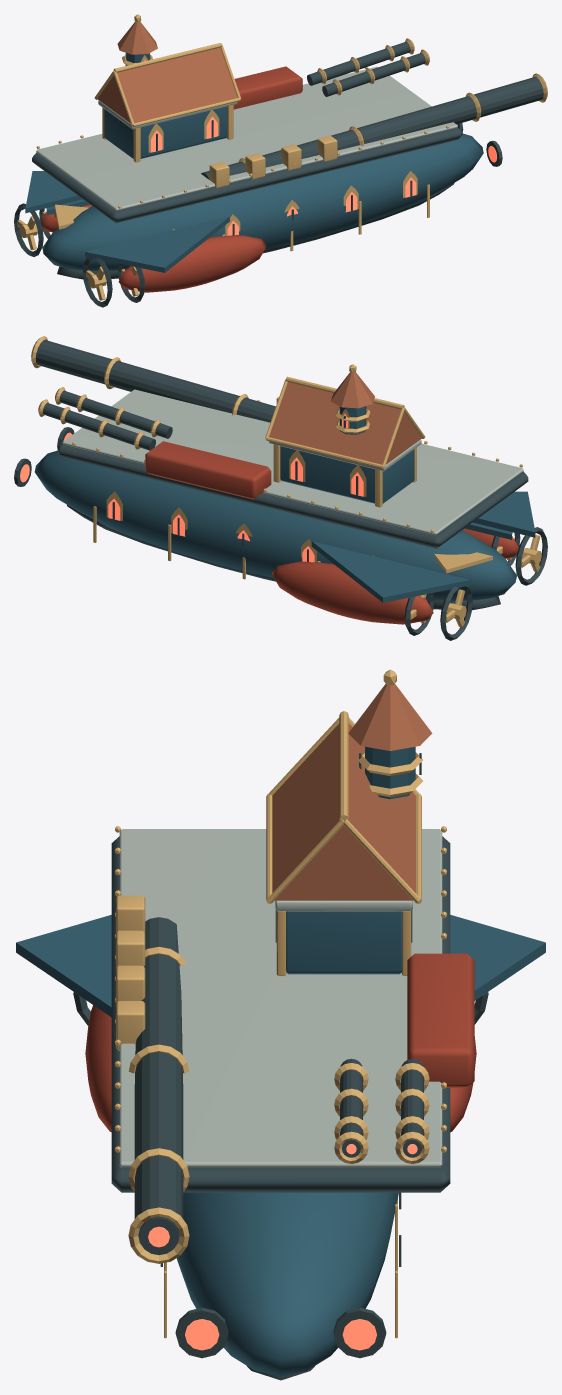
The model's file is enemy-jagddom.glb.
The picture shows the model from 3 angles, top to bottom: view 1: azimuth 30°, elevation 25°; view 2: azimuth 150°, elevation 25°; view 3: azimuth 270°, elevation 25°; orthographic projection. The views are drawn at different scales.
Parts seen in each view (by area): view 1: enemy-jagddom / Paint | Prussian night enamel, enemy-jagddom / Paint | armored limestone, enemy-jagddom / Hull | charcoal iron, enemy-jagddom / Fittings | worn maritime brass, enemy-jagddom / Copper | fired red roof, enemy-jagddom / Paint | Hanseatic oxblood, enemy-jagddom / Lamp | hostile coral; view 2: enemy-jagddom / Paint | Prussian night enamel, enemy-jagddom / Hull | charcoal iron, enemy-jagddom / Paint | armored limestone, enemy-jagddom / Paint | Hanseatic oxblood, enemy-jagddom / Fittings | worn maritime brass, enemy-jagddom / Copper | fired red roof, enemy-jagddom / Lamp | hostile coral; view 3: enemy-jagddom / Paint | armored limestone, enemy-jagddom / Paint | Prussian night enamel, enemy-jagddom / Hull | charcoal iron, enemy-jagddom / Copper | fired red roof, enemy-jagddom / Fittings | worn maritime brass, enemy-jagddom / Paint | Hanseatic oxblood, enemy-jagddom / Lamp | hostile coral.
Boxes of the visible parts, left/top/right/bottom form: enemy-jagddom / Paint | Prussian night enamel: left=25, top=53, right=483, bottom=272; enemy-jagddom / Paint | armored limestone: left=36, top=66, right=457, bottom=210; enemy-jagddom / Hull | charcoal iron: left=14, top=41, right=543, bottom=307; enemy-jagddom / Fittings | worn maritime brass: left=17, top=14, right=547, bottom=300; enemy-jagddom / Copper | fired red roof: left=97, top=21, right=237, bottom=123; enemy-jagddom / Paint | Hanseatic oxblood: left=40, top=66, right=302, bottom=292; enemy-jagddom / Lamp | hostile coral: left=144, top=60, right=497, bottom=235; enemy-jagddom / Paint | Prussian night enamel: left=34, top=406, right=535, bottom=602; enemy-jagddom / Hull | charcoal iron: left=14, top=340, right=547, bottom=640; enemy-jagddom / Paint | armored limestone: left=62, top=389, right=523, bottom=535; enemy-jagddom / Paint | Hanseatic oxblood: left=145, top=441, right=518, bottom=624; enemy-jagddom / Fittings | worn maritime brass: left=31, top=336, right=541, bottom=627; enemy-jagddom / Copper | fired red roof: left=269, top=372, right=421, bottom=464; enemy-jagddom / Lamp | hostile coral: left=20, top=413, right=363, bottom=562; enemy-jagddom / Paint | armored limestone: left=119, top=829, right=442, bottom=1167; enemy-jagddom / Paint | Prussian night enamel: left=16, top=746, right=545, bottom=1375; enemy-jagddom / Hull | charcoal iron: left=73, top=753, right=488, bottom=1380; enemy-jagddom / Copper | fired red roof: left=272, top=684, right=432, bottom=900; enemy-jagddom / Fittings | worn maritime brass: left=115, top=669, right=446, bottom=1338; enemy-jagddom / Paint | Hanseatic oxblood: left=85, top=953, right=476, bottom=1132; enemy-jagddom / Lamp | hostile coral: left=148, top=1144, right=417, bottom=1350.
Size of the model in its own units: 10.28 by 4.91 by 5.04.
